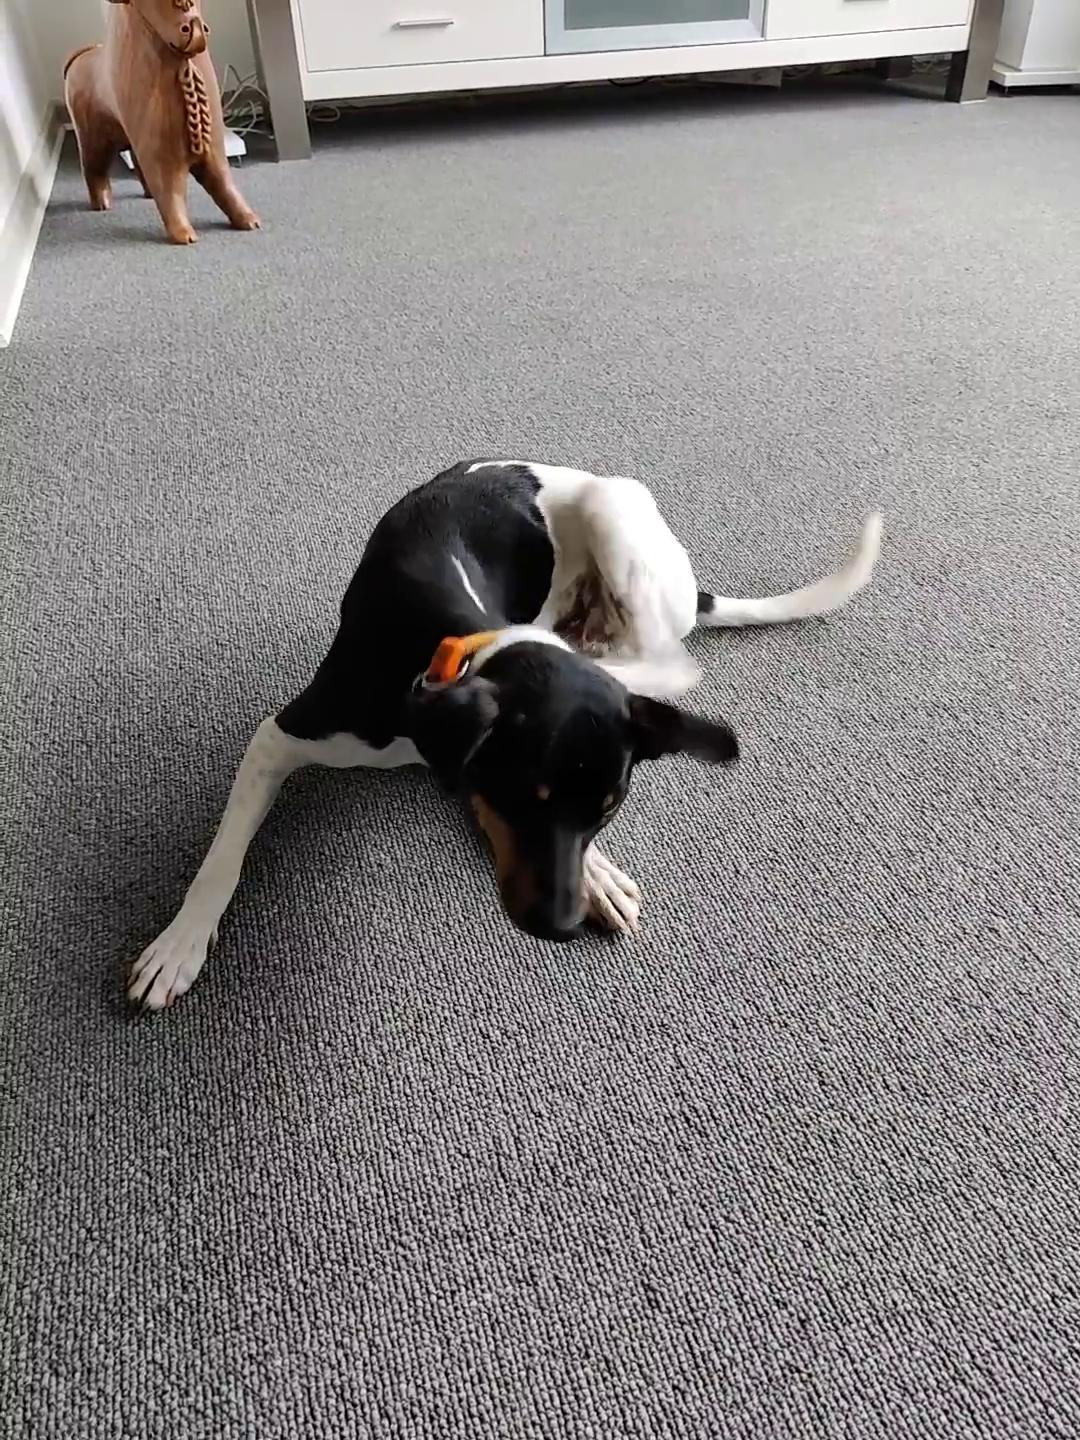Dog: (117, 456, 881, 1020)
